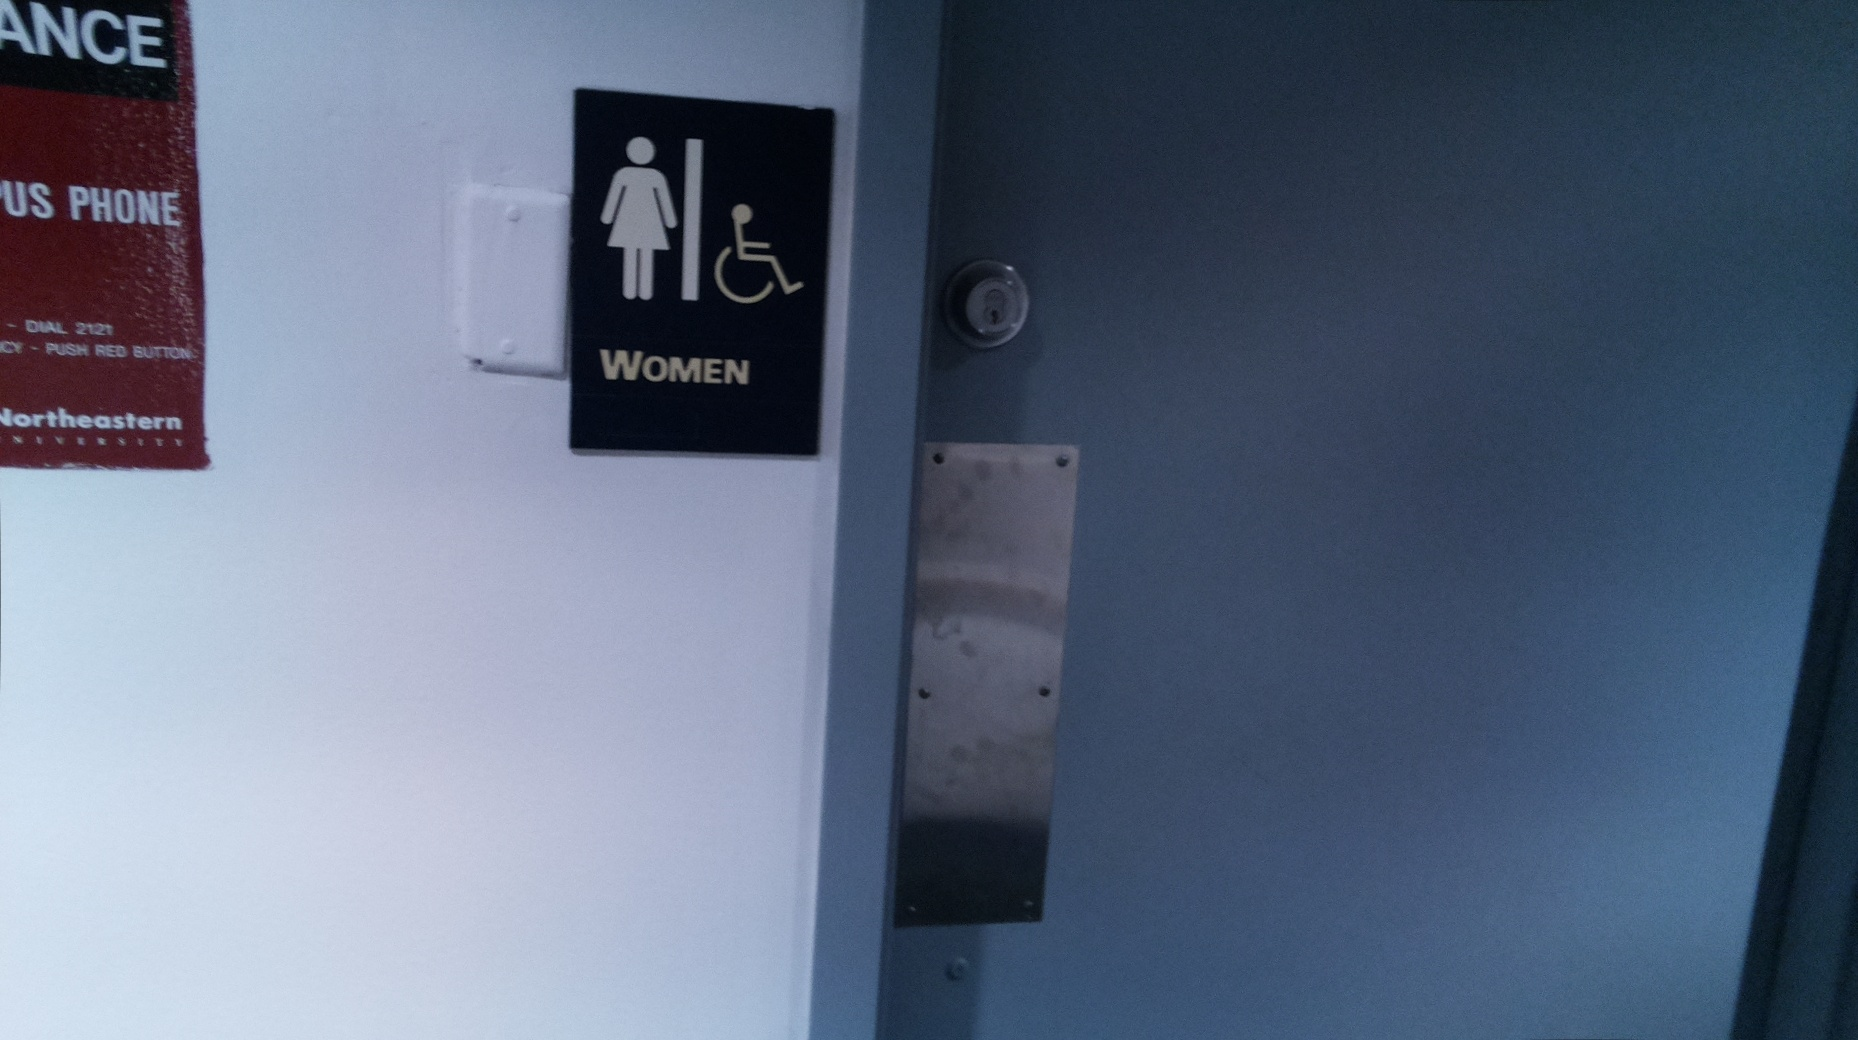bathroom sign: (556, 73, 847, 473)
